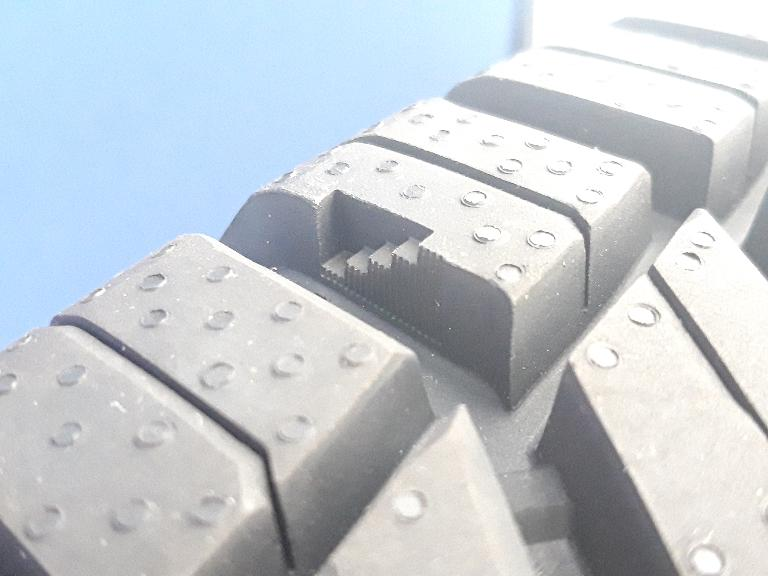temoin:100: (308, 185, 447, 347)
